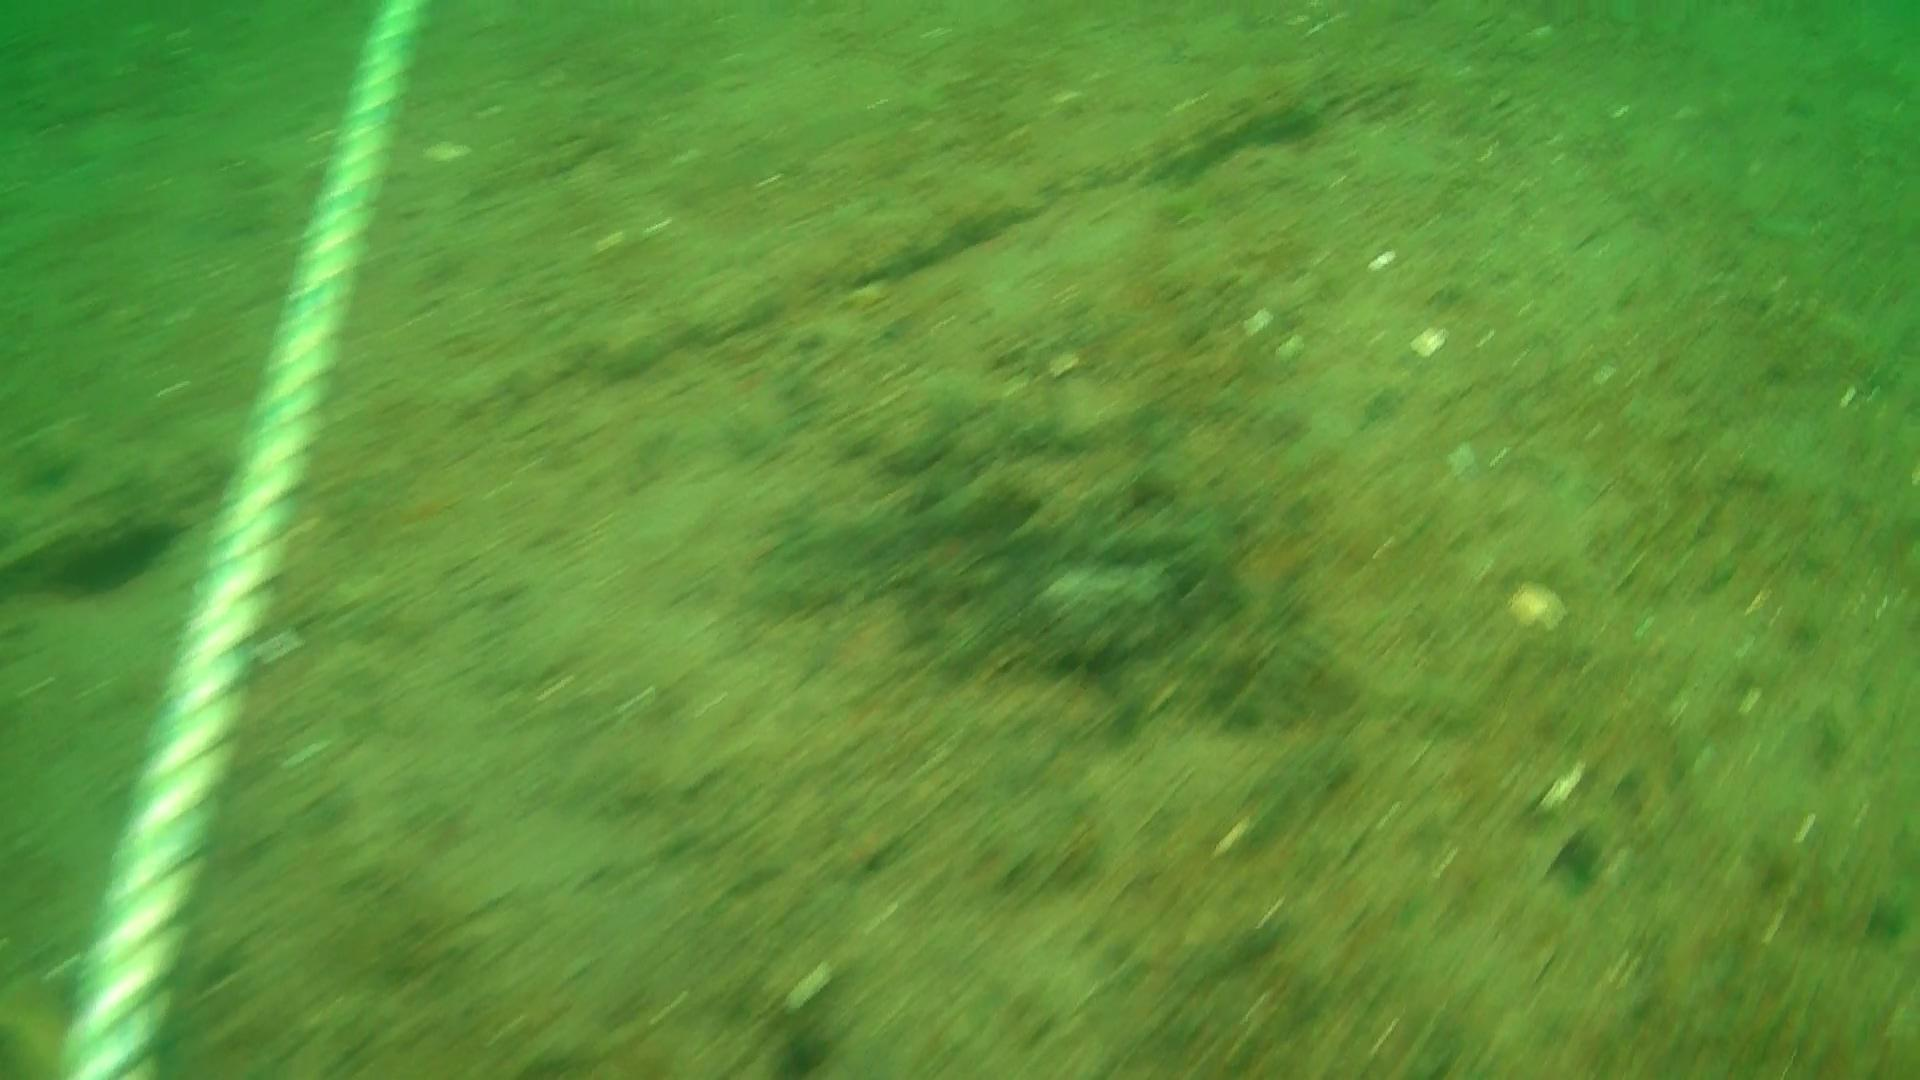rope: (62, 0, 426, 1080)
